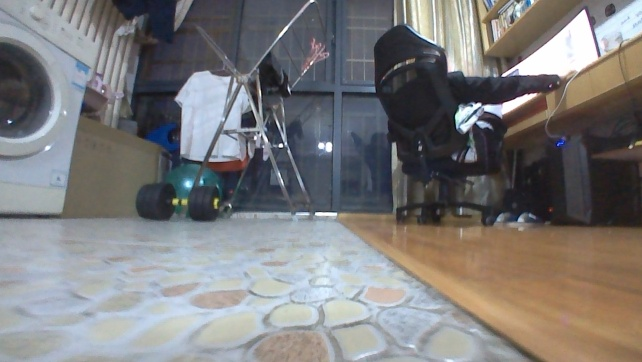washing_machine: (0, 0, 102, 227)
wire: (541, 70, 579, 141), (614, 36, 638, 95)
